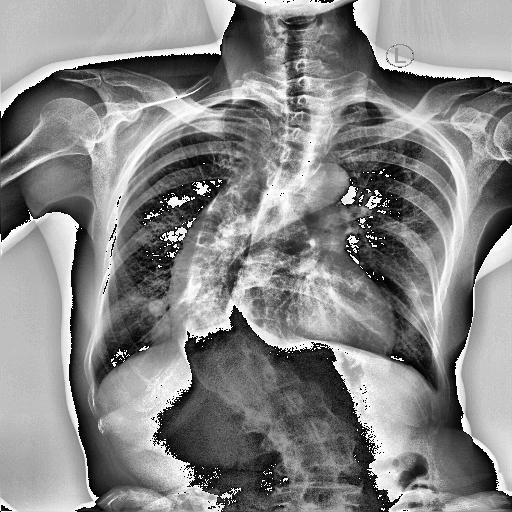3- Cardiomegaly: (161, 231, 413, 371)
8- Nodule-Mass: (132, 292, 183, 352)
9- Other lesion: (154, 74, 344, 430), (165, 192, 279, 378), (167, 188, 277, 286)
